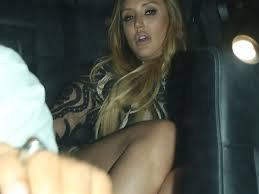Drunk: (121, 0, 168, 54)
